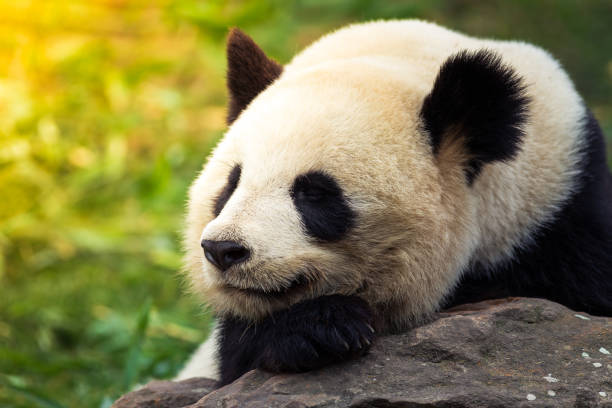panda: (164, 13, 607, 400)
